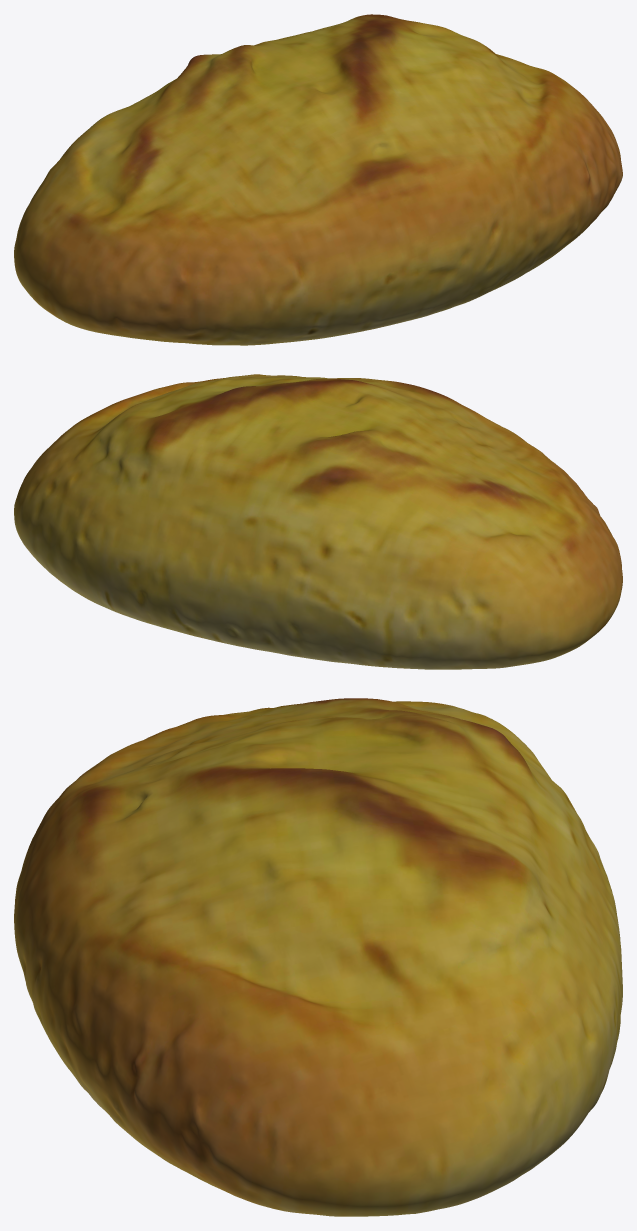
The model's file is bbb87bc3d752_bread_stuffed_with_.fbx.
The picture shows the model from 3 angles, top to bottom: view 1: azimuth 30°, elevation 25°; view 2: azimuth 150°, elevation 25°; view 3: azimuth 270°, elevation 25°; orthographic projection. The views are drawn at different scales.
Parts seen in each view (by area): view 1: high_poly; view 2: high_poly; view 3: high_poly.
Boxes of the visible parts, x1=… form: high_poly: x1=14, y1=14, x2=622, y2=345; high_poly: x1=14, y1=374, x2=622, y2=669; high_poly: x1=14, y1=698, x2=622, y2=1216.
Bounding box in the file's own units: 100 × 34.68 × 63.05.
